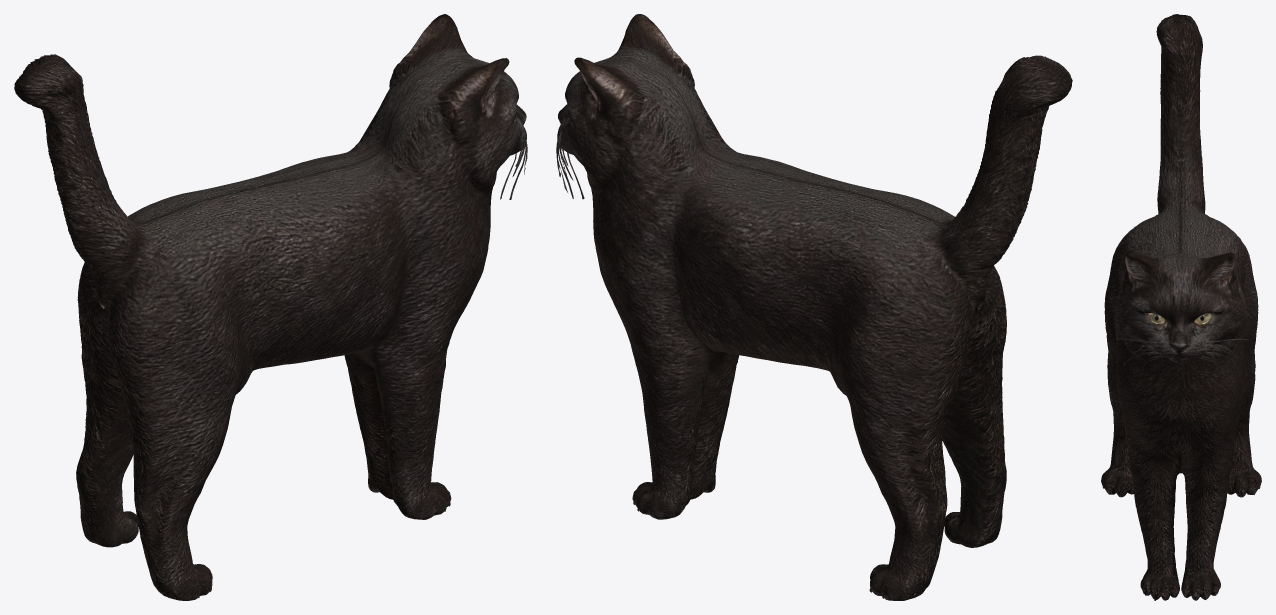
Rendered from SIMPKIN4.glb.
The picture shows the model from 3 angles, left to right: view 1: azimuth 30°, elevation 25°; view 2: azimuth 150°, elevation 25°; view 3: azimuth 270°, elevation 25°; orthographic projection. The views are drawn at different scales.
Visible parts, largest first — view 1: tripo_node_e91e2a4e-940c-4697-9245-72c367b9f12a; view 2: tripo_node_e91e2a4e-940c-4697-9245-72c367b9f12a; view 3: tripo_node_e91e2a4e-940c-4697-9245-72c367b9f12a.
Part boxes in pixels (x1,y1,x2,y2): tripo_node_e91e2a4e-940c-4697-9245-72c367b9f12a: [14, 14, 527, 600]; tripo_node_e91e2a4e-940c-4697-9245-72c367b9f12a: [556, 14, 1072, 600]; tripo_node_e91e2a4e-940c-4697-9245-72c367b9f12a: [1101, 14, 1261, 600].
Bounding box in the file's own units: 0.998 × 0.9997 × 0.3358.
Materials: 1 (1 with a texture image).
